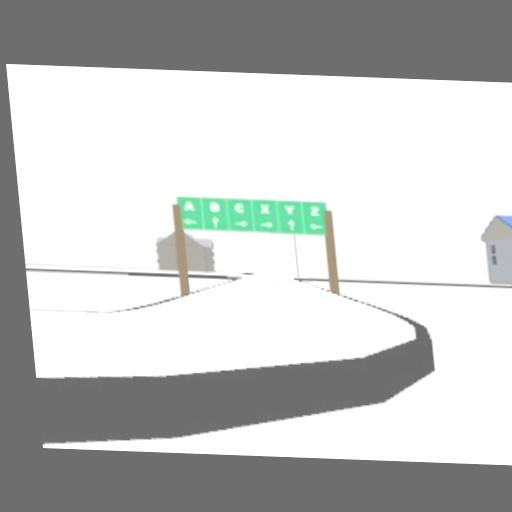A: (183, 201, 195, 212)
B: (209, 201, 222, 213)
C: (232, 202, 244, 214)
Left: (308, 223, 323, 231), (183, 219, 198, 226)
Right: (233, 220, 248, 228), (259, 221, 274, 229)
Straight: (287, 219, 297, 231), (212, 216, 220, 228)
X: (259, 203, 271, 215)
Y: (283, 204, 295, 216)
Z: (308, 205, 320, 217)
